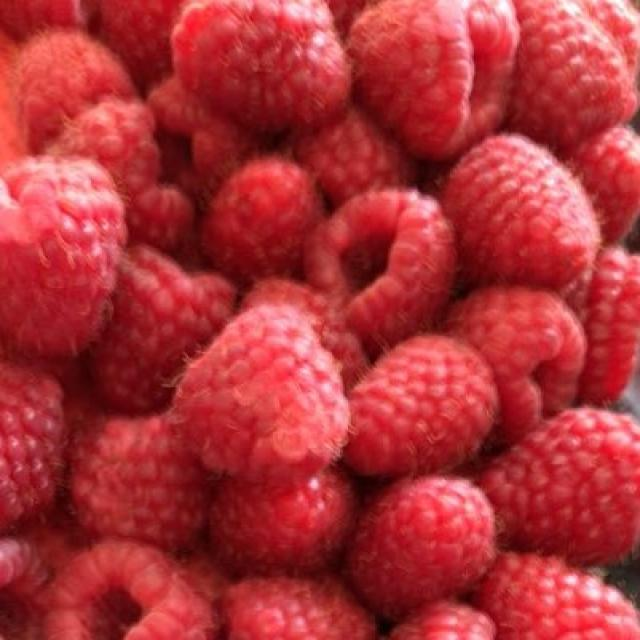raspberries: (6, 12, 634, 626)
